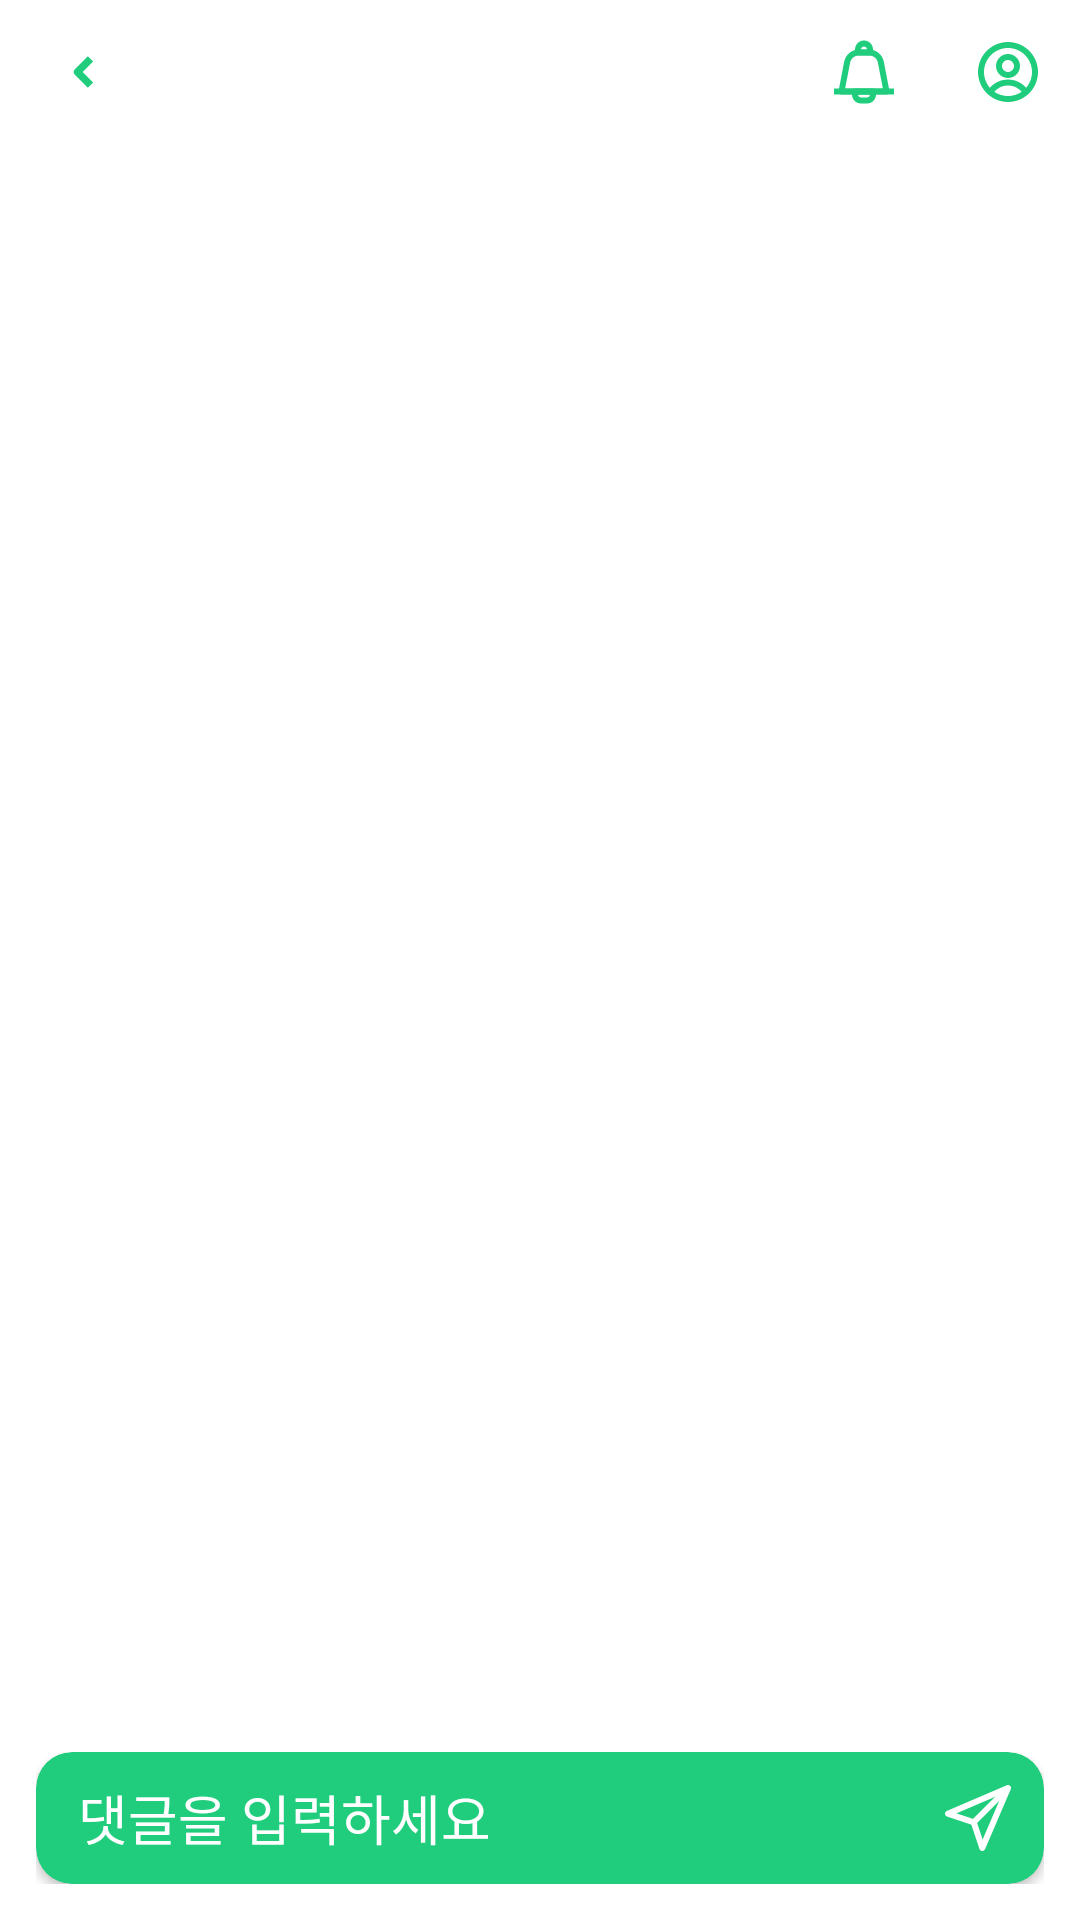

Icons on this 1080×1920 Android screen, each with the point to tap as (x=x, y=y):
댓글 전송: (x=978, y=1818)
